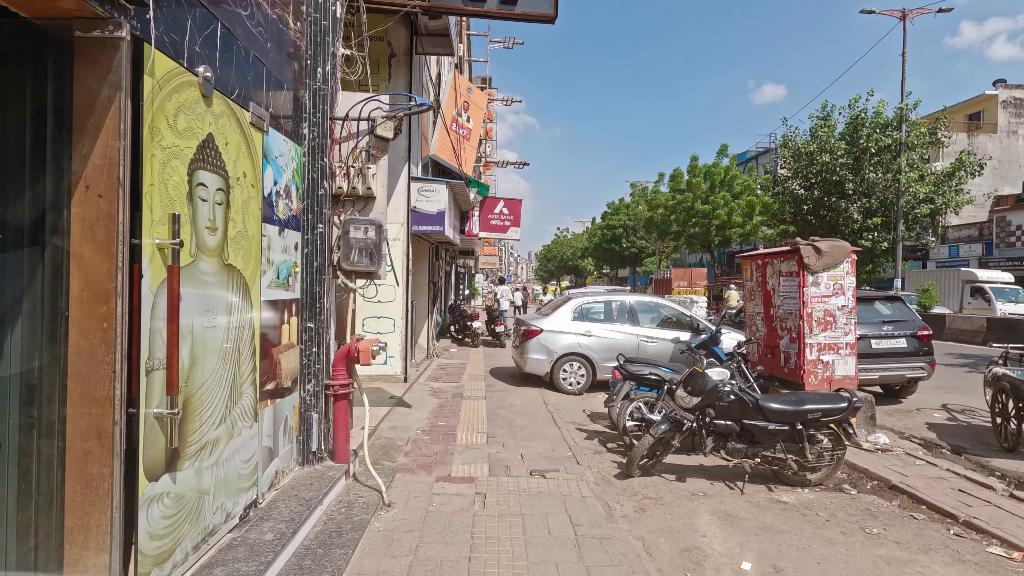garbage: (984, 540, 1024, 564), (868, 432, 889, 446)
